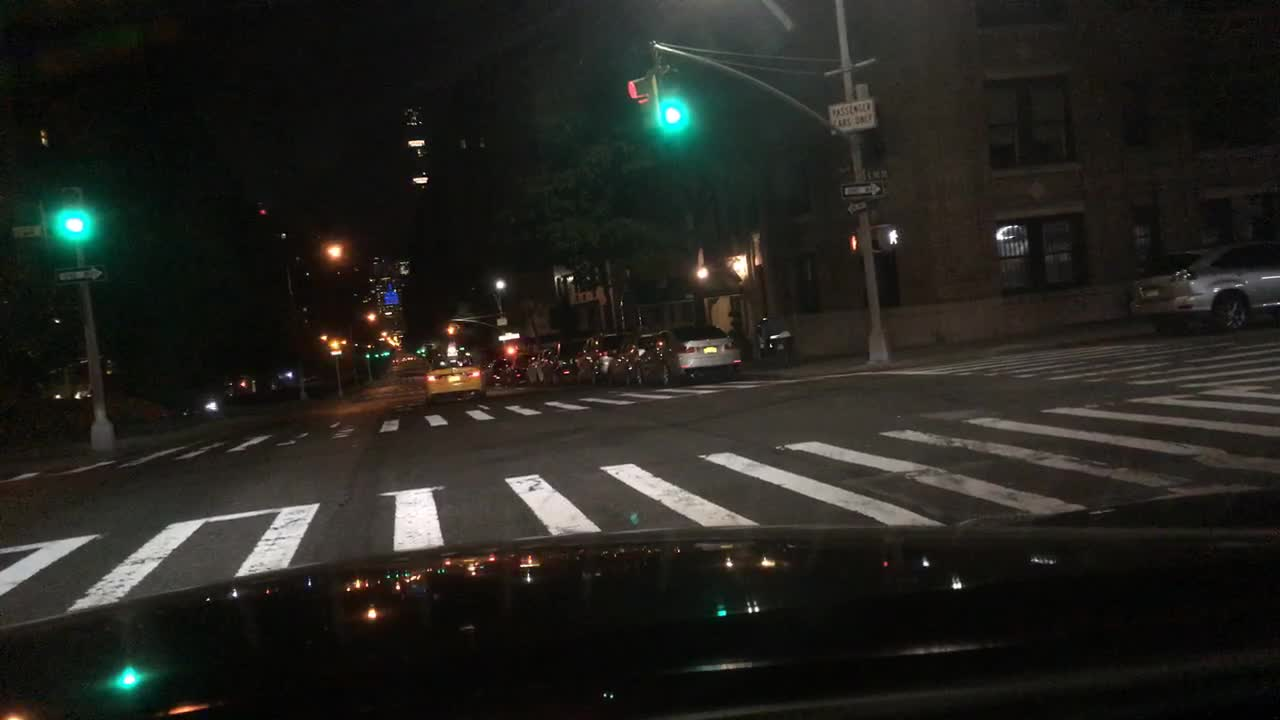car: (1123, 238, 1279, 335), (637, 324, 743, 385), (424, 343, 485, 407), (561, 336, 603, 387), (606, 334, 644, 390), (517, 349, 558, 389), (587, 331, 614, 386), (535, 347, 569, 388), (506, 351, 538, 390), (486, 356, 514, 391)
motor: (748, 315, 799, 369)
traffic light: (629, 75, 667, 137), (654, 66, 686, 129), (58, 189, 89, 242), (880, 222, 903, 249)
traffic sign: (830, 97, 875, 136), (54, 264, 106, 281), (839, 180, 884, 198), (13, 225, 45, 238), (859, 167, 893, 178), (497, 328, 519, 344), (845, 200, 868, 214), (495, 315, 508, 326)
